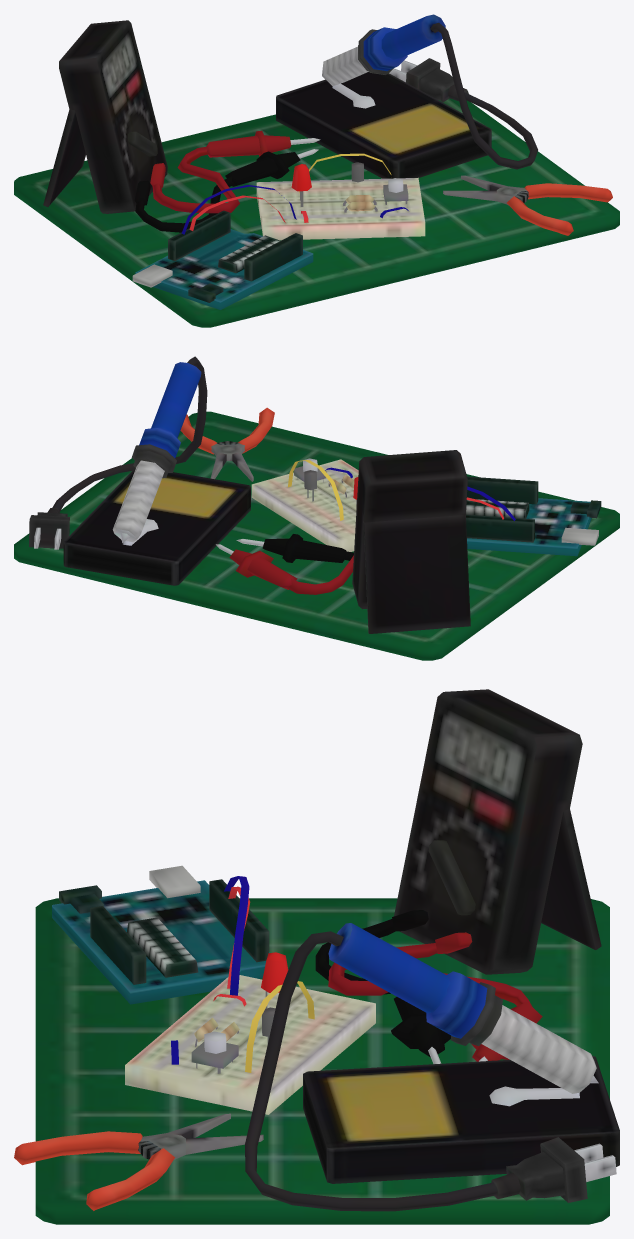
The picture shows the model from 3 angles, top to bottom: view 1: azimuth 30°, elevation 25°; view 2: azimuth 150°, elevation 25°; view 3: azimuth 270°, elevation 25°; orthographic projection. The views are drawn at different scales.
Bounding box in the file's own units: 9.75 × 3.38 × 7.56.
Materials: 1 (1 with a texture image).
